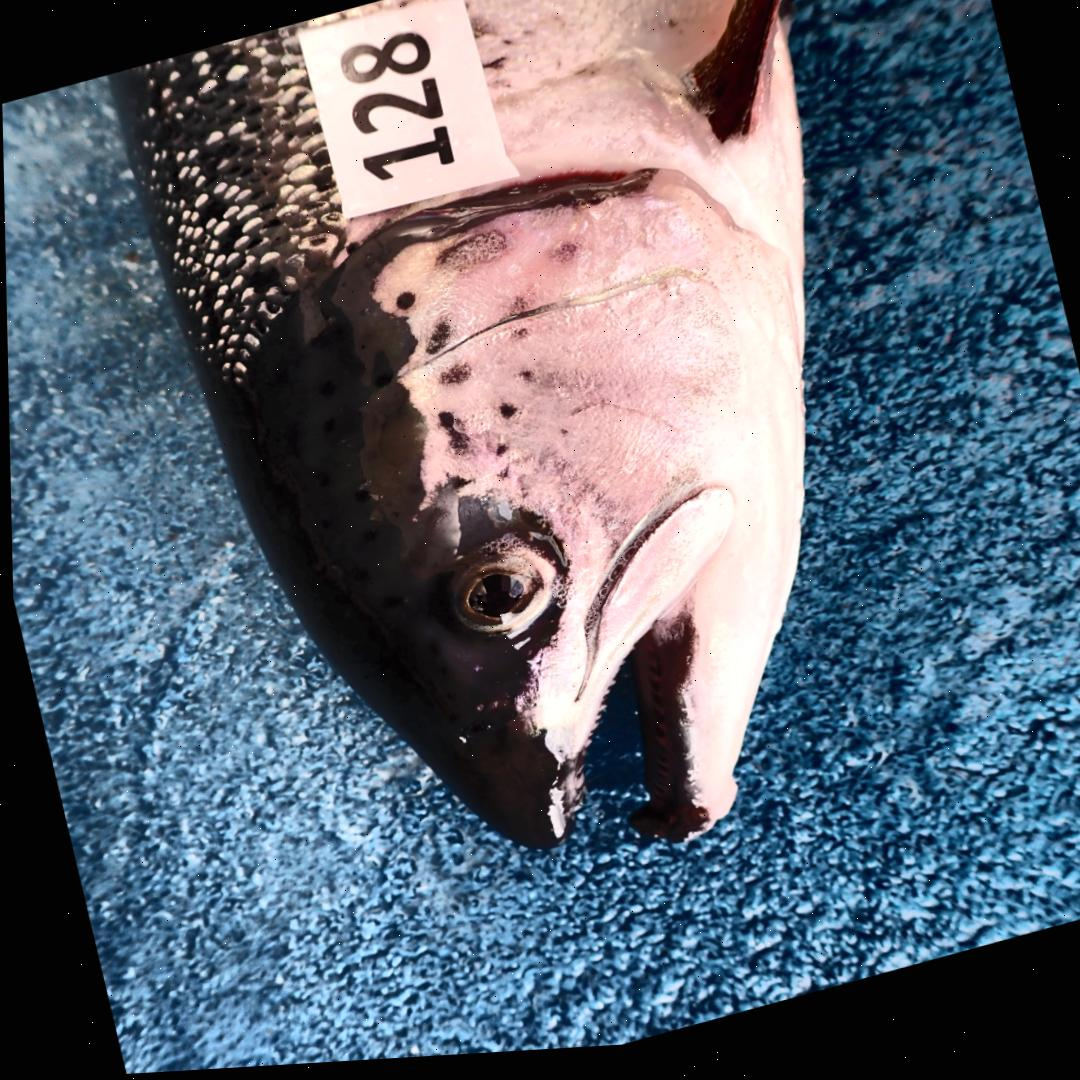spot: (435, 236, 505, 276), (435, 416, 468, 460), (424, 325, 450, 360), (496, 300, 531, 325), (436, 367, 471, 391), (548, 246, 580, 270), (395, 296, 415, 315), (446, 480, 469, 495), (508, 330, 529, 346), (512, 374, 534, 389), (496, 408, 515, 425), (515, 479, 527, 503), (492, 448, 506, 463), (495, 473, 508, 485), (554, 432, 566, 444)
